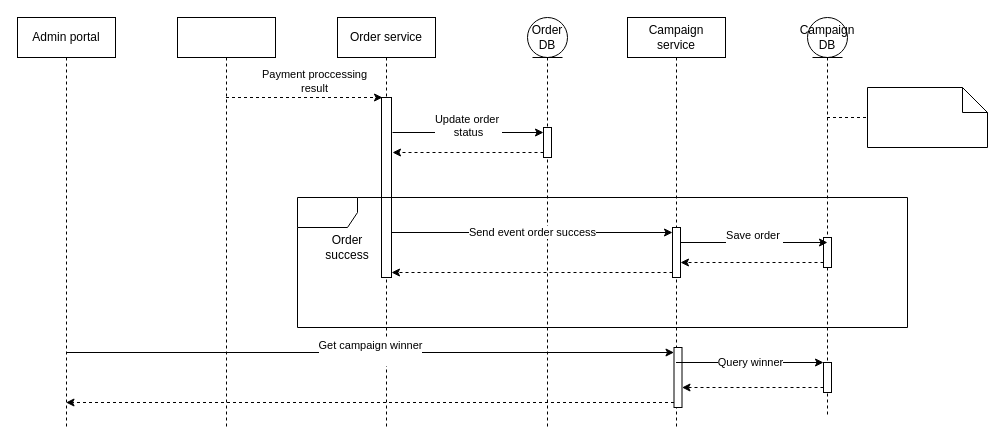
This 1005x445 diagram has some shape labels left out. The shapes that lost their labels are listed below. From the top down, each one's box as (x1, y1, x2, y2) in pixels, then its label:
(866, 86, 988, 148): Analystic DB
(176, 16, 276, 428): Payment service
(296, 196, 908, 328): opt
